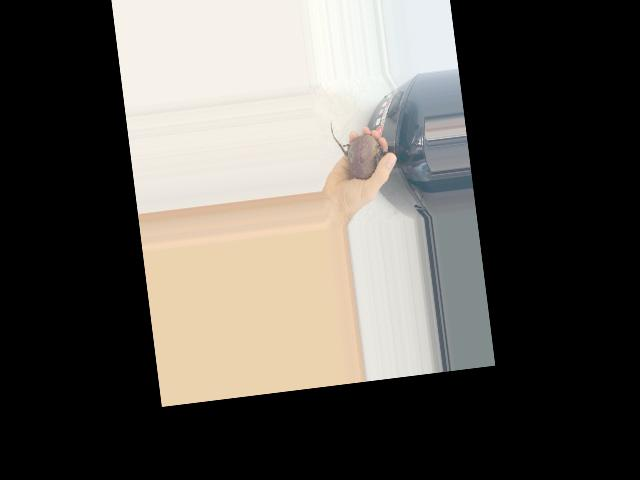beet: (329, 114, 390, 182)
